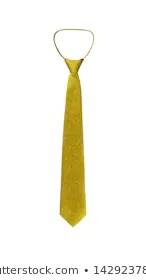F_tie: (49, 26, 103, 232)
